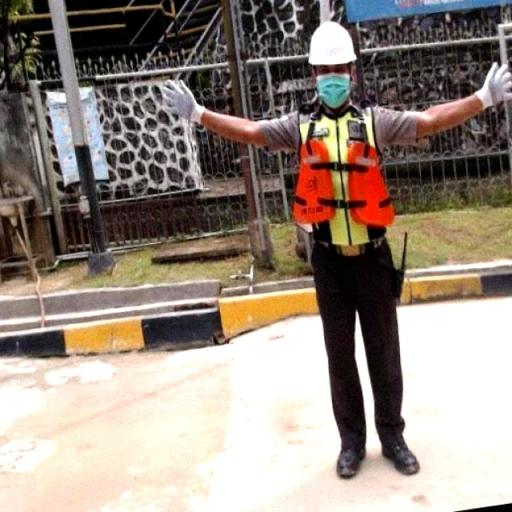Person: (157, 16, 509, 482)
boots: (377, 434, 427, 481), (332, 440, 366, 481)
gloves: (153, 75, 210, 127), (472, 58, 511, 114)
helmet: (308, 32, 358, 68)
vest: (296, 102, 398, 258)
